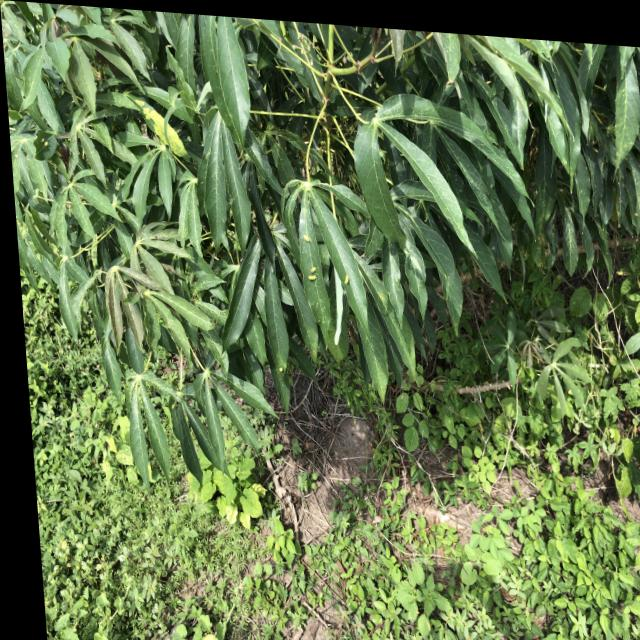Maleza: (489, 348, 637, 634), (61, 490, 351, 621), (336, 541, 529, 640), (41, 377, 109, 640), (200, 472, 282, 533)
Mosca: (28, 132, 56, 151), (297, 215, 314, 244), (305, 262, 323, 285), (342, 267, 359, 289)
